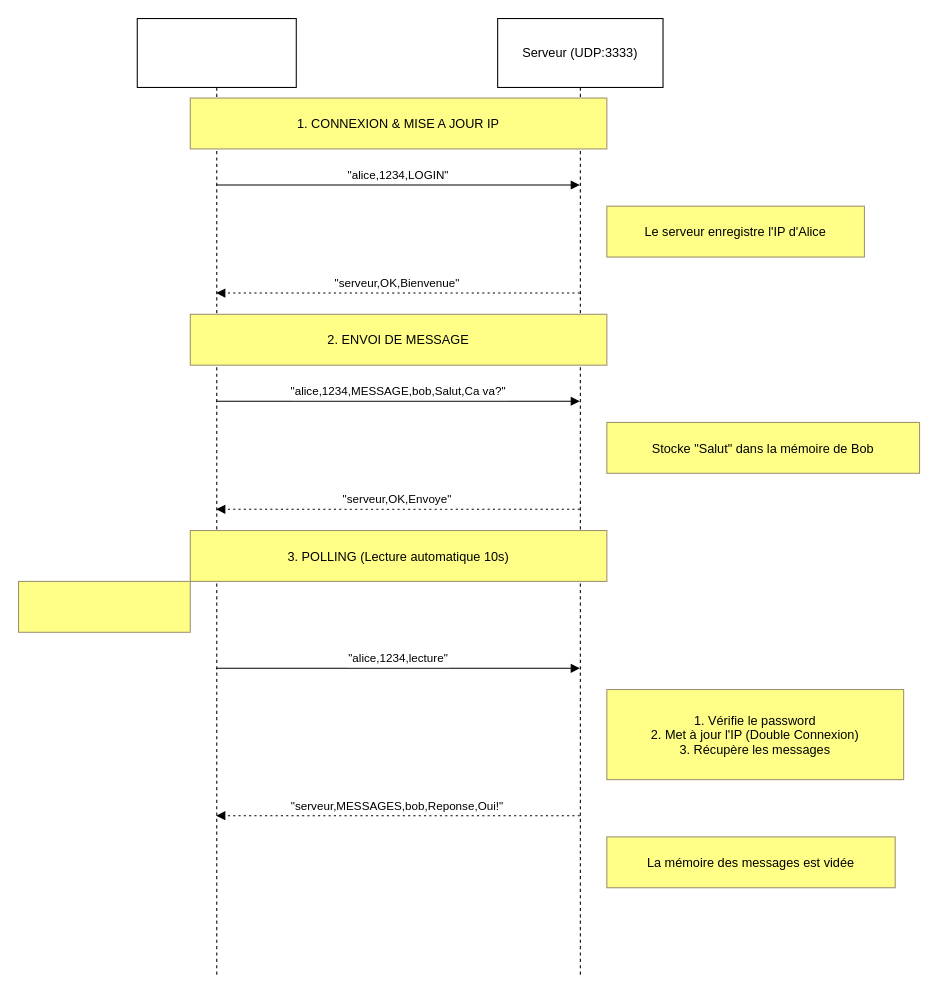
This 938x996 diagram has some shape labels left out. Each missing label, with the centre of its shape:
"Timer 10 secondes..." belongs at point 103,606.
"Utilisateur (Client)" belongs at point 216,497.
